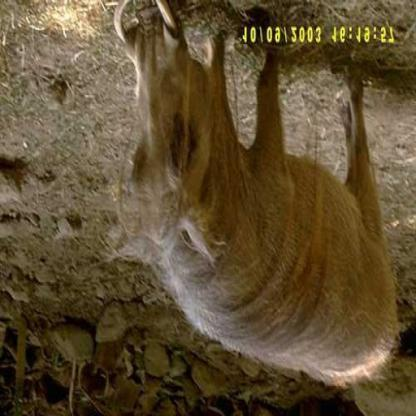boar: (93, 1, 415, 396)
